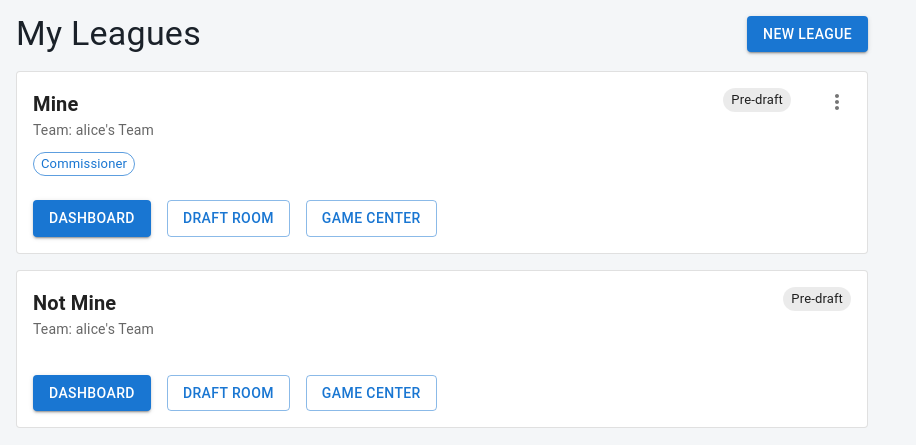
Test: the Delete action only appears for leagues the user owns
Expected: the heading "Mine" is shown, [33,92,78,116]
Click the button named "League actions for " at x=837, y=102, box [815,80,859,124]
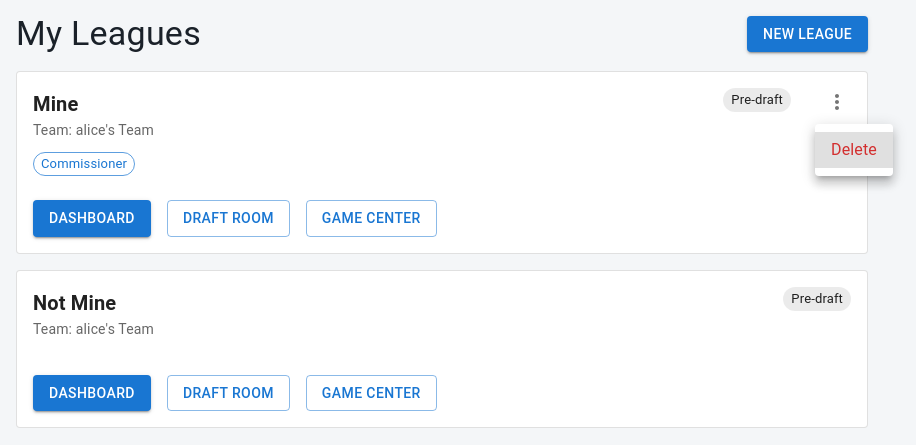
Now the menu item "Delete" is shown, box [815,132,893,168]
